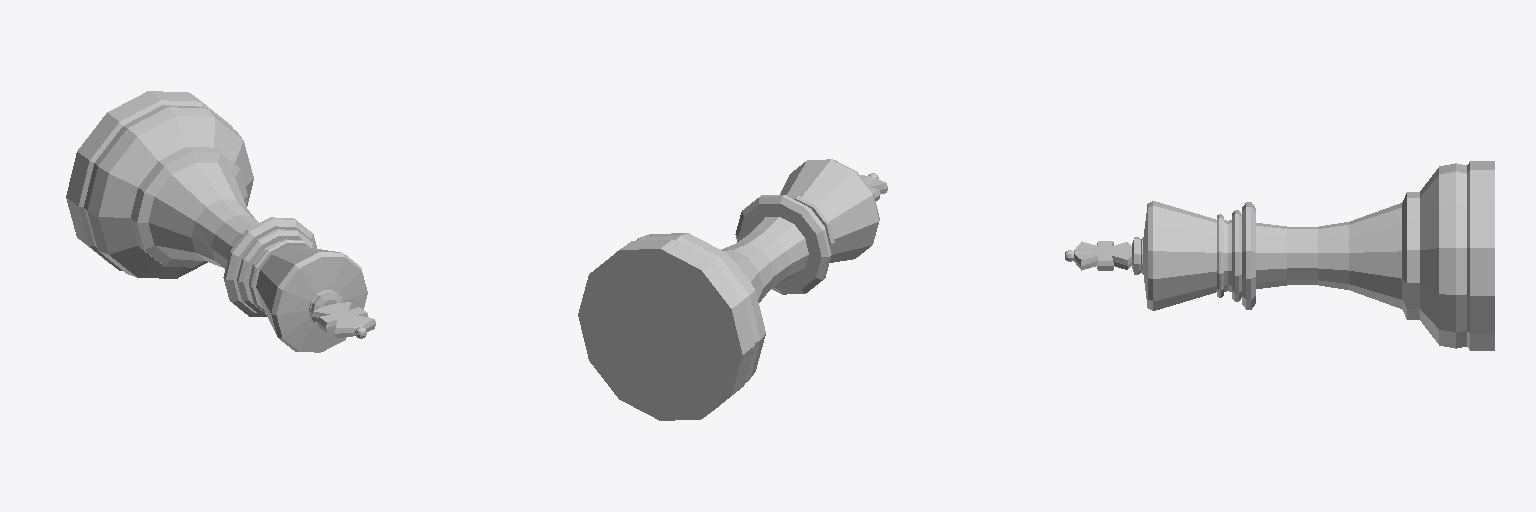
Rendered from King.obj.
3 renders of one model, left to right at view 1: azimuth 30°, elevation 25°; view 2: azimuth 150°, elevation 25°; view 3: azimuth 270°, elevation 25°, orthographic.
Parts seen in each view (by area): view 1: King PiezasAjedrez:Mesh; view 2: King PiezasAjedrez:Mesh; view 3: King PiezasAjedrez:Mesh.
Boxes of the visible parts, box(x1,y1,x2,y2) form: King PiezasAjedrez:Mesh: box(66, 91, 375, 352); King PiezasAjedrez:Mesh: box(578, 159, 887, 420); King PiezasAjedrez:Mesh: box(1065, 161, 1494, 350).
Size of the model in its own units: 4.42 by 4.42 by 10.02.